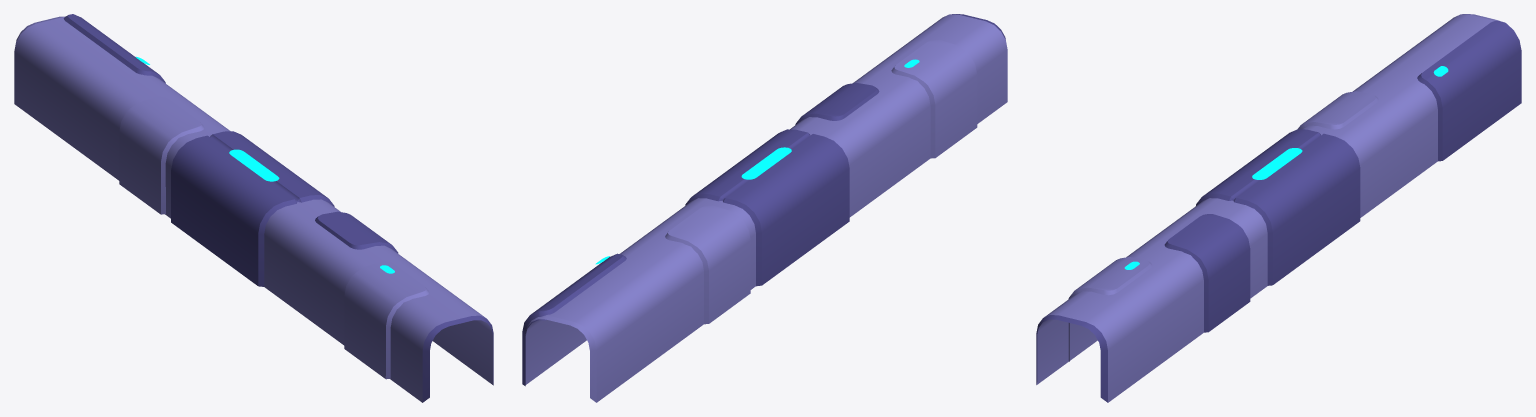
File: wall_large.glb
3 renders of one model, left to right at view 1: azimuth 30°, elevation 25°; view 2: azimuth 150°, elevation 25°; view 3: azimuth 330°, elevation 25°, orthographic.
Parts seen in each view (by area): view 1: Wall_large; view 2: Wall_large; view 3: Wall_large.
Boxes of the visible parts, <box> form: Wall_large: <box>14,14,493,402</box>; Wall_large: <box>522,14,1007,402</box>; Wall_large: <box>1036,14,1521,402</box>.
Bounding box in the file's own units: 0.2175 × 0.2119 × 2.
Materials: 1 (1 with a texture image).
